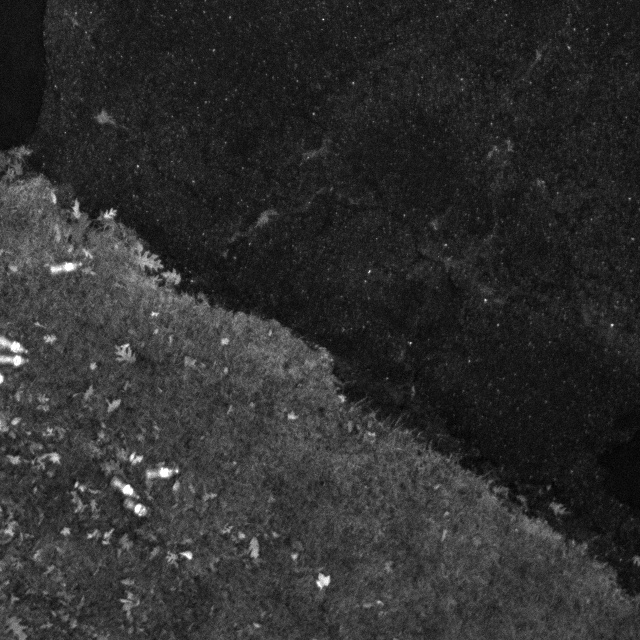bottle: (141, 464, 183, 486), (110, 478, 140, 501), (49, 261, 85, 280), (124, 498, 151, 523)
